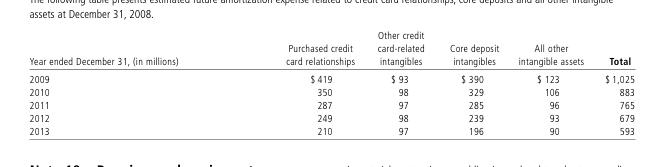table: (28, 28, 633, 136)
table column: (28, 28, 231, 136), (231, 28, 365, 136), (508, 28, 593, 136), (436, 28, 508, 136), (365, 28, 436, 136), (593, 28, 633, 136)
table column header: (28, 28, 633, 69)
table row: (28, 28, 633, 69), (28, 69, 633, 85), (28, 97, 633, 110), (28, 110, 633, 123), (28, 123, 633, 136), (28, 85, 633, 97)
